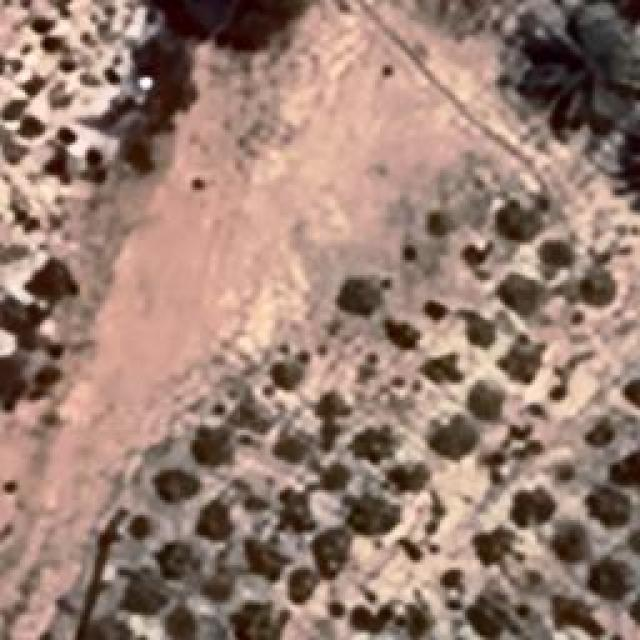PalmTree: (18, 62, 582, 113), (105, 113, 631, 166), (348, 601, 434, 640), (614, 118, 640, 218)
